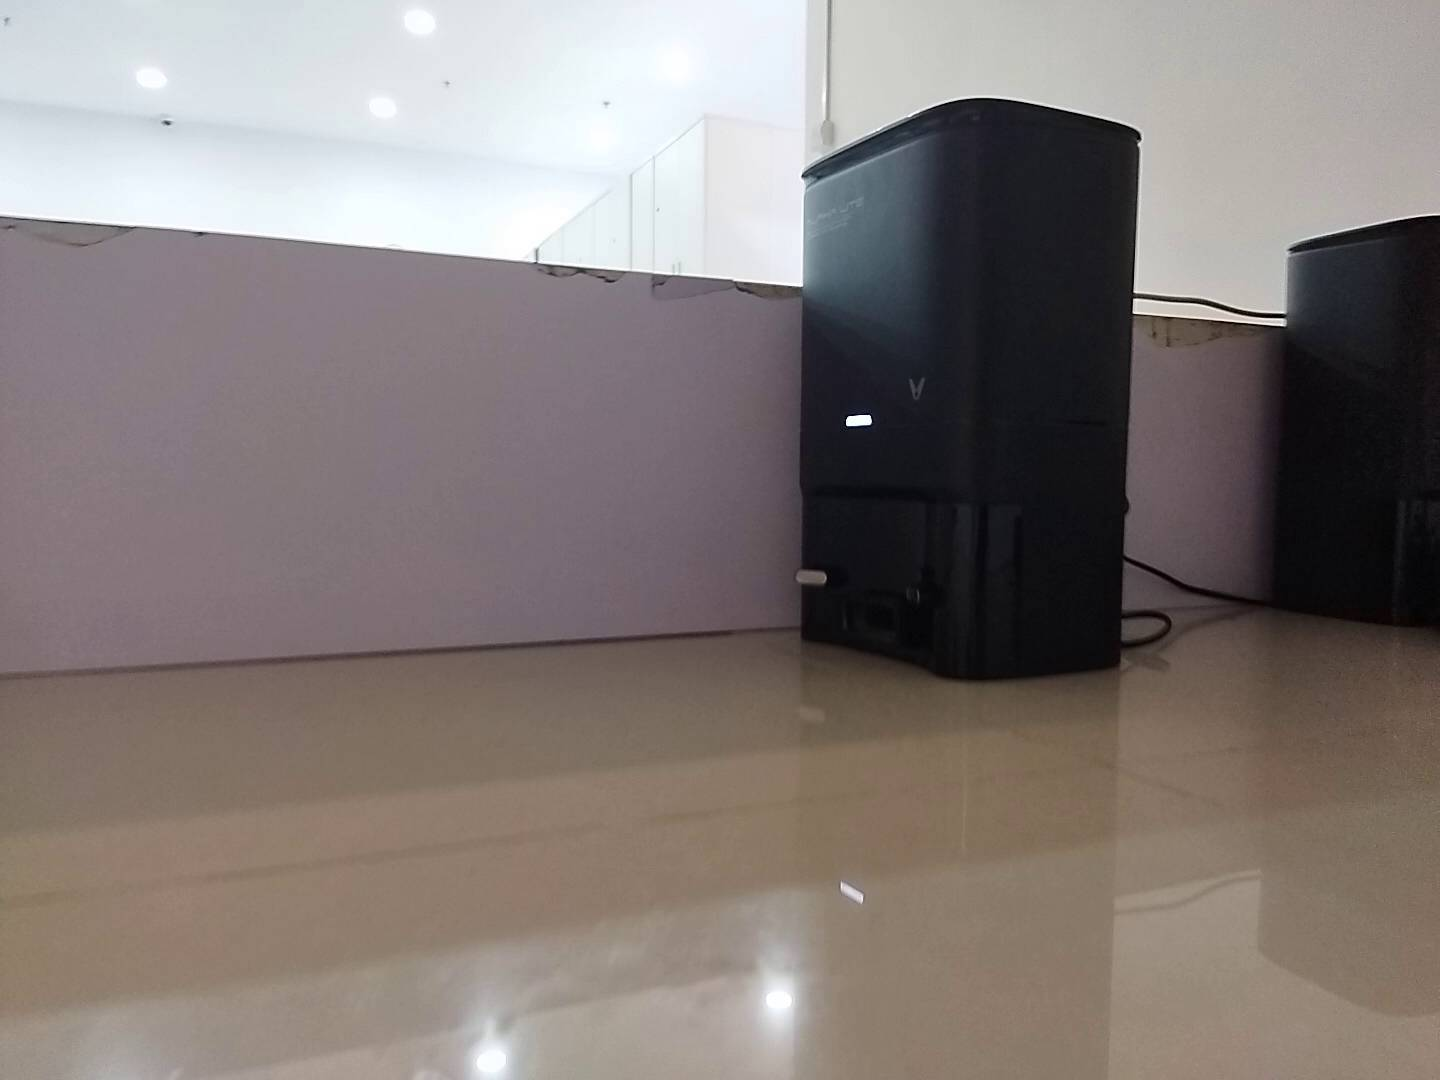dust collecting barrel: (791, 96, 1143, 682), (1273, 211, 1439, 630)
